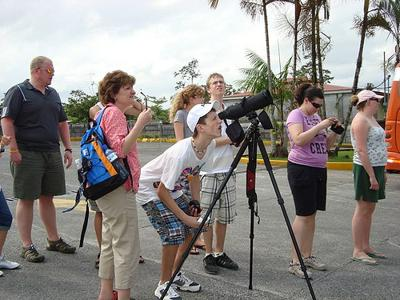person: (138, 102, 225, 299)
